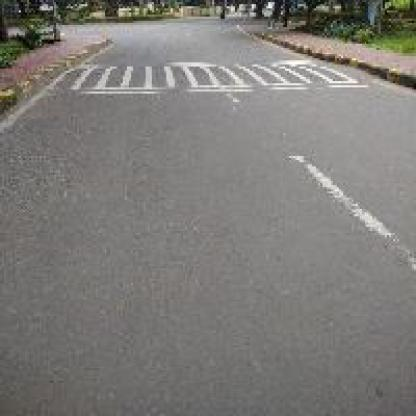Speed Bump: (34, 56, 370, 96)
